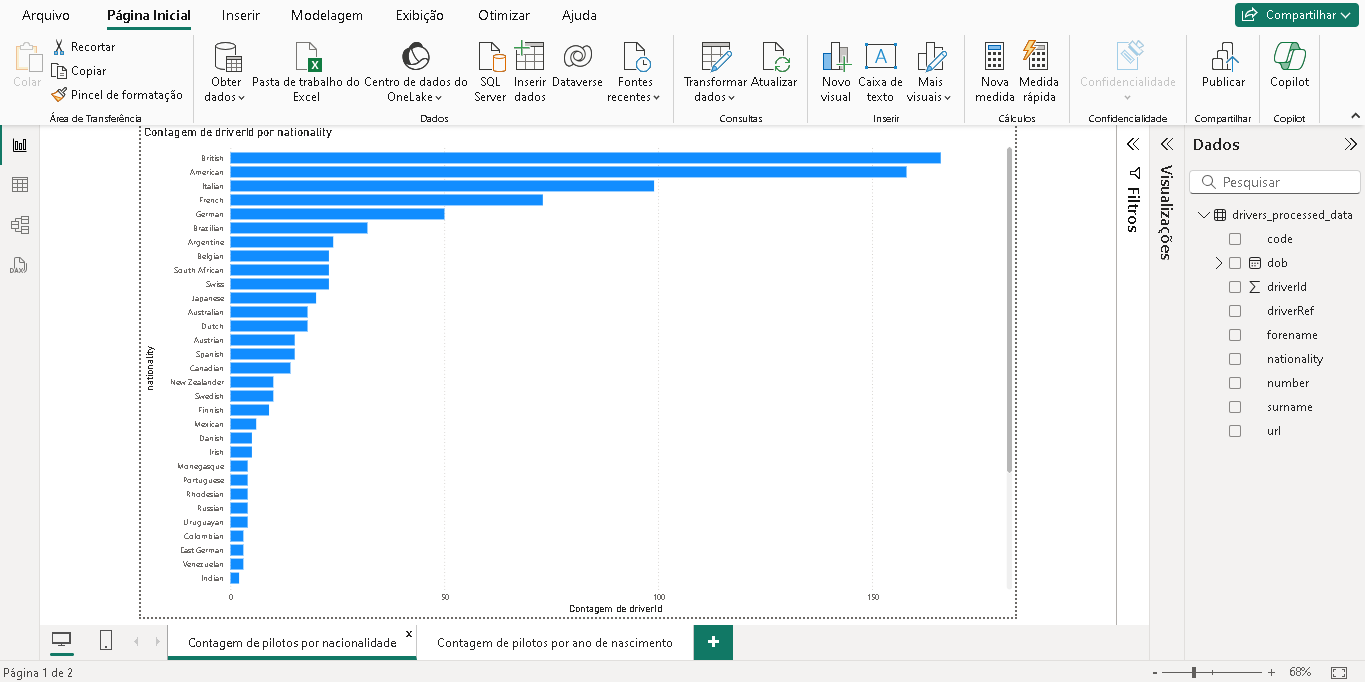

Layout of this report page (visuals, bound fields, positions):
{"tool":"powerbi","page":{"name":"Contagem de pilotos por nacionalidade","canvas":[1280,720],"ordinal":0},"visuals":[{"type":"barChart","fields":{"Category":["drivers_processed_data.nationality"],"Y":["CountNonNull(drivers_processed_data.driverId)"]},"box":[0,0,1280,720.6],"z":0}]}

Visuals, with their boxes on the page's 1280x720 design canvas (x1, y1, x2, y2). These are canvas units, not pixel positions in the 1365x682 screenshot, which may show the page scaled, cropped or inside an application window:
barChart - drivers_processed_data.nationality x CountNonNull(drivers_processed_data.driverId): x1=0, y1=0, x2=1280, y2=721
